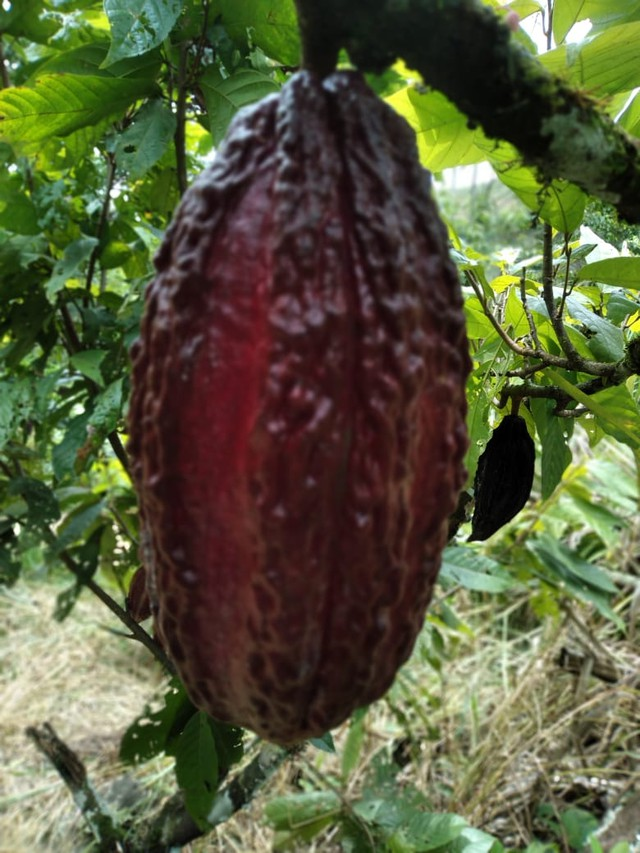Health: (120, 57, 483, 758)
